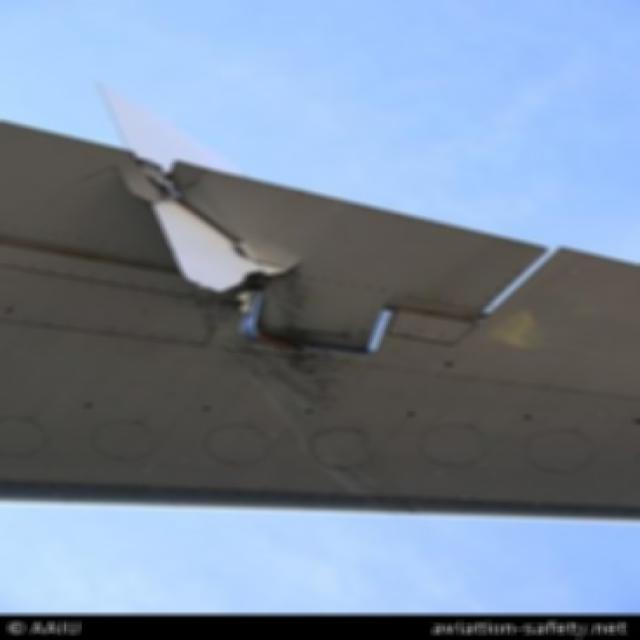crack: (88, 157, 302, 299)
